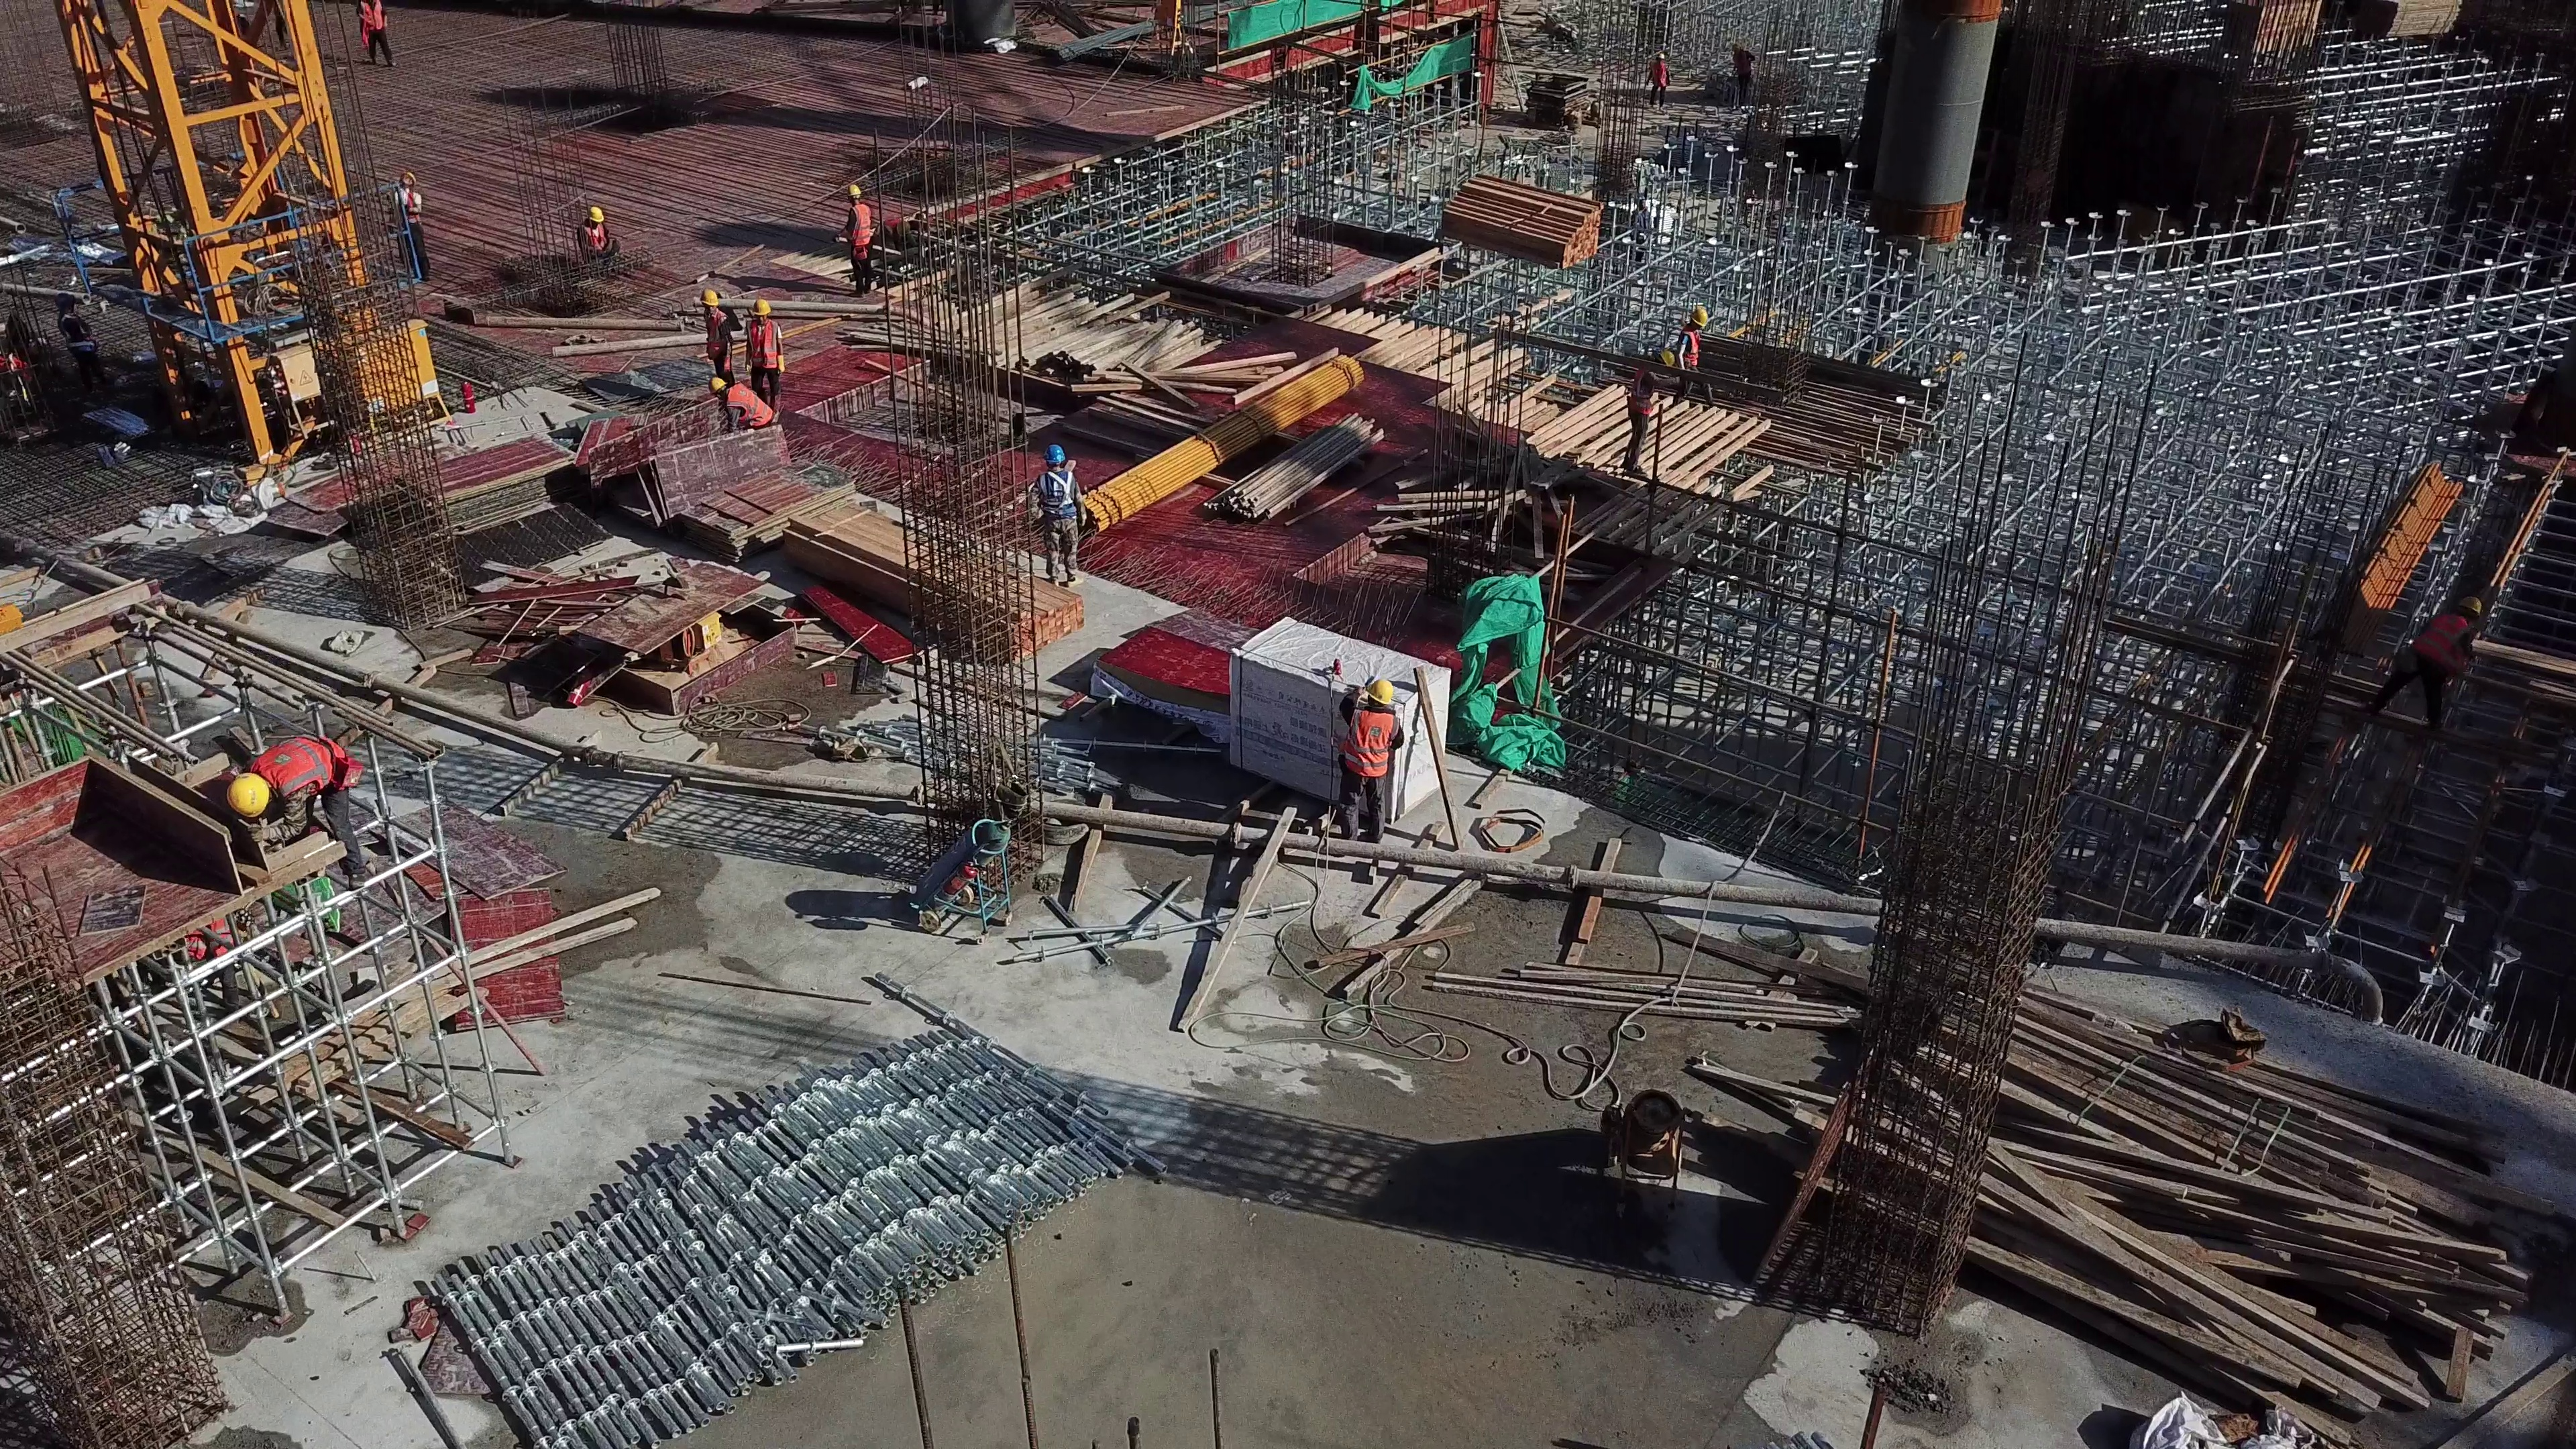board: (685, 460, 859, 563), (1099, 623, 1231, 737), (423, 435, 578, 531)
helmet: (225, 773, 271, 817), (1366, 680, 1395, 706), (1044, 445, 1067, 465), (753, 298, 773, 317), (1691, 307, 1711, 325), (700, 288, 718, 308), (708, 376, 726, 394), (588, 205, 604, 223), (1658, 352, 1676, 365), (847, 184, 861, 196)
person: (219, 731, 378, 881), (1332, 679, 1412, 853), (1024, 439, 1087, 591), (1619, 342, 1678, 478), (386, 172, 433, 283), (835, 179, 880, 299), (744, 298, 786, 413), (1671, 303, 1717, 406), (705, 372, 780, 429), (699, 288, 737, 387), (356, 1, 398, 71), (573, 203, 623, 262), (1726, 40, 1758, 110), (1644, 50, 1674, 115)
scaffold: (434, 1030, 1170, 1449)
vest: (247, 734, 345, 799), (1340, 705, 1404, 780), (726, 384, 773, 427), (1038, 467, 1077, 517), (748, 320, 780, 370), (842, 202, 872, 247), (702, 310, 727, 358), (1630, 369, 1655, 415), (1680, 327, 1701, 366), (400, 189, 425, 225), (359, 1, 384, 33), (581, 224, 614, 250)
wood: (1993, 992, 2534, 1434), (1023, 304, 1210, 390), (1442, 173, 1605, 267), (1027, 571, 1088, 647)
